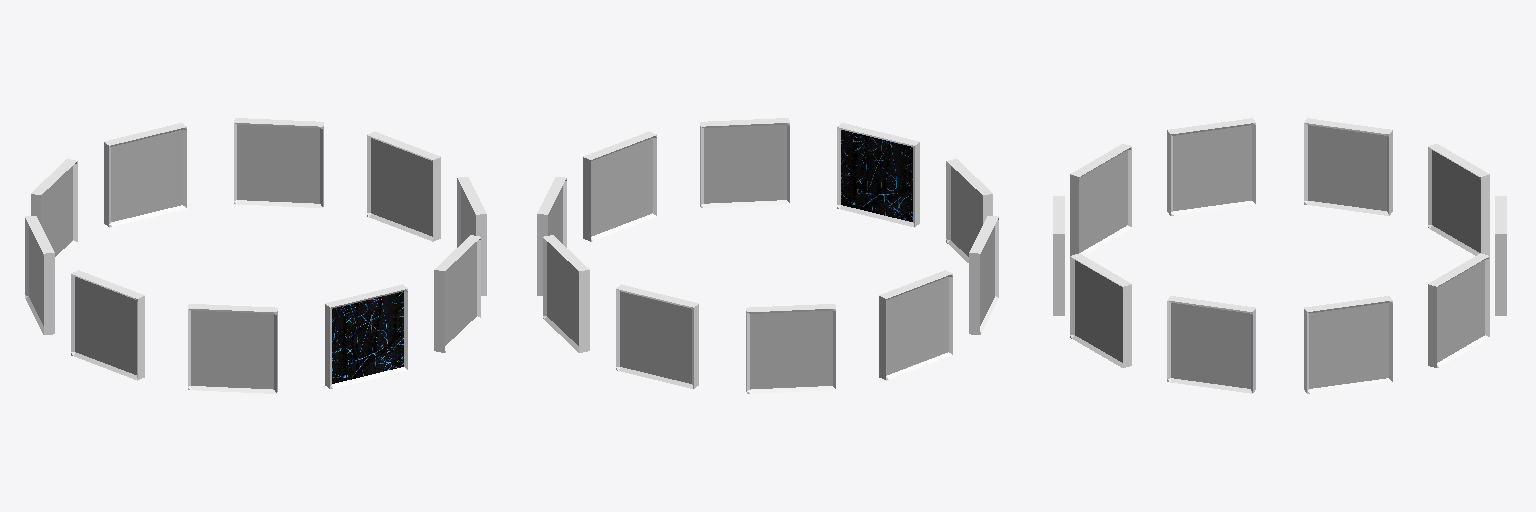
3 views of the same model, side by side, from view 1: azimuth 30°, elevation 25°; view 2: azimuth 150°, elevation 25°; view 3: azimuth 270°, elevation 25° (orthographic).
Visible parts, largest first — view 1: Cube_4, Cube_9, Cube_5, Cube_10, Cube_3, Cube_8, Cube_1, Cube_6, Cube_7, Cube_2; view 2: Cube_1, Cube_6, Cube_5, Cube_10, Cube_2, Cube_7, Cube_4, Cube_9, Cube_8, Cube_3; view 3: Cube_2, Cube_3, Cube_7, Cube_8, Cube_1, Cube_4, Cube_6, Cube_9, Cube_5, Cube_10.
Part boxes in pixels (left/top/right/bottom): Cube_4: left=234, top=118, right=323, bottom=207; Cube_9: left=188, top=304, right=277, bottom=393; Cube_5: left=104, top=123, right=186, bottom=227; Cube_10: left=325, top=284, right=407, bottom=388; Cube_3: left=367, top=131, right=440, bottom=241; Cube_8: left=71, top=270, right=144, bottom=380; Cube_1: left=434, top=235, right=480, bottom=352; Cube_6: left=31, top=159, right=77, bottom=262; Cube_7: left=25, top=216, right=54, bottom=334; Cube_2: left=457, top=177, right=486, bottom=295; Cube_1: left=700, top=118, right=789, bottom=207; Cube_6: left=746, top=304, right=835, bottom=393; Cube_5: left=616, top=284, right=698, bottom=388; Cube_10: left=837, top=123, right=919, bottom=227; Cube_2: left=583, top=131, right=656, bottom=241; Cube_7: left=879, top=270, right=952, bottom=380; Cube_4: left=543, top=235, right=589, bottom=352; Cube_9: left=946, top=159, right=992, bottom=262; Cube_8: left=969, top=216, right=998, bottom=334; Cube_3: left=537, top=177, right=566, bottom=295; Cube_2: left=1167, top=296, right=1255, bottom=393; Cube_3: left=1304, top=296, right=1392, bottom=393; Cube_7: left=1304, top=118, right=1392, bottom=215; Cube_8: left=1167, top=118, right=1255, bottom=215; Cube_1: left=1070, top=253, right=1131, bottom=367; Cube_4: left=1428, top=253, right=1489, bottom=367; Cube_6: left=1428, top=144, right=1489, bottom=255; Cube_9: left=1070, top=144, right=1131, bottom=255; Cube_5: left=1495, top=196, right=1506, bottom=315; Cube_10: left=1053, top=196, right=1064, bottom=315.
Bounding box in the file's own units: 1020 × 200 × 1008.
Materials: 11 (1 with a texture image).